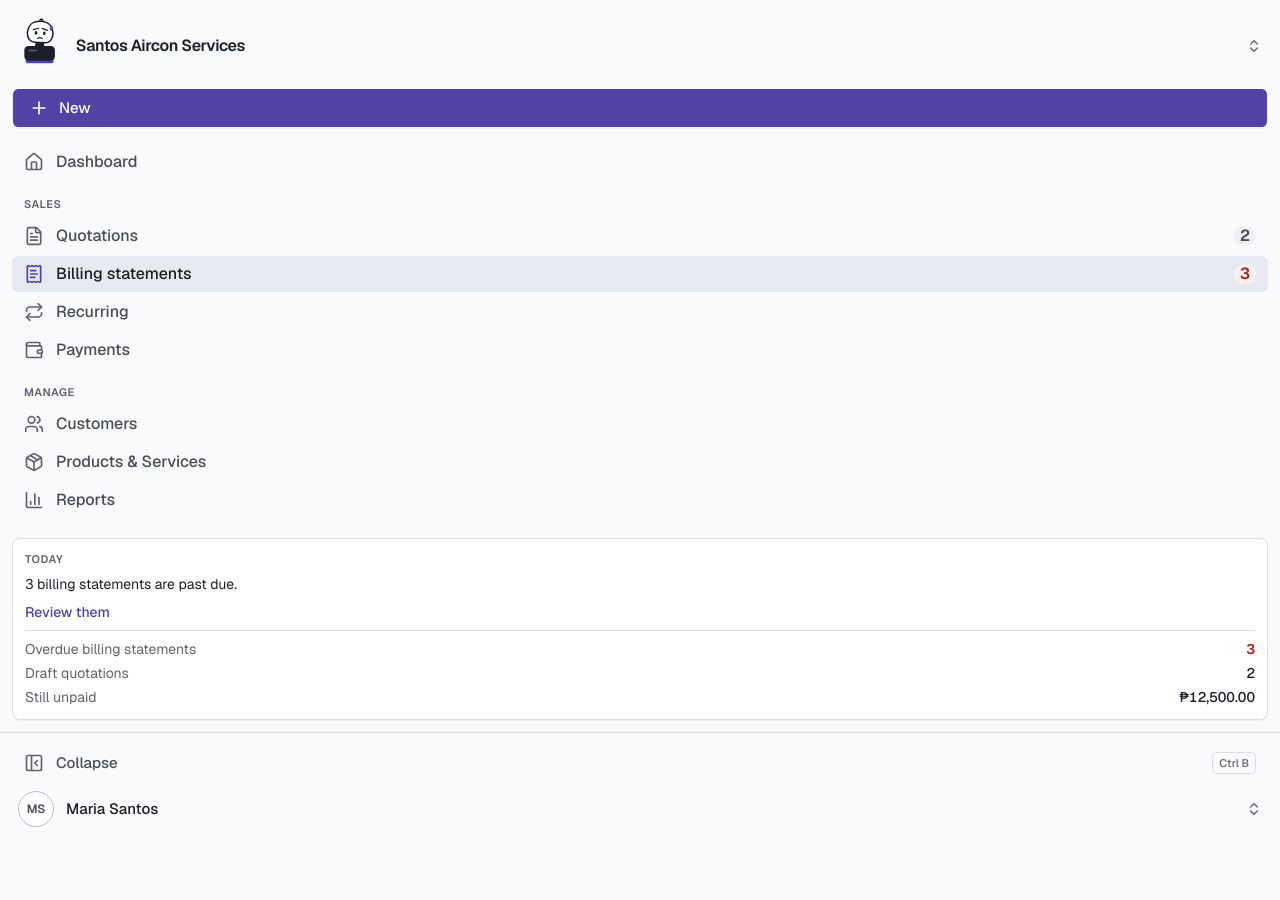
Test: sidebar › offers every business and a way to add another from the name at the top
This screenshot has width=1280, height=900.
Press the mouse on the button "Santos Aircon Services" at (41, 46), box [12,12,1268,80]
Click the button "Santos Aircon Services" at (41, 46), box [12,12,1268,80]
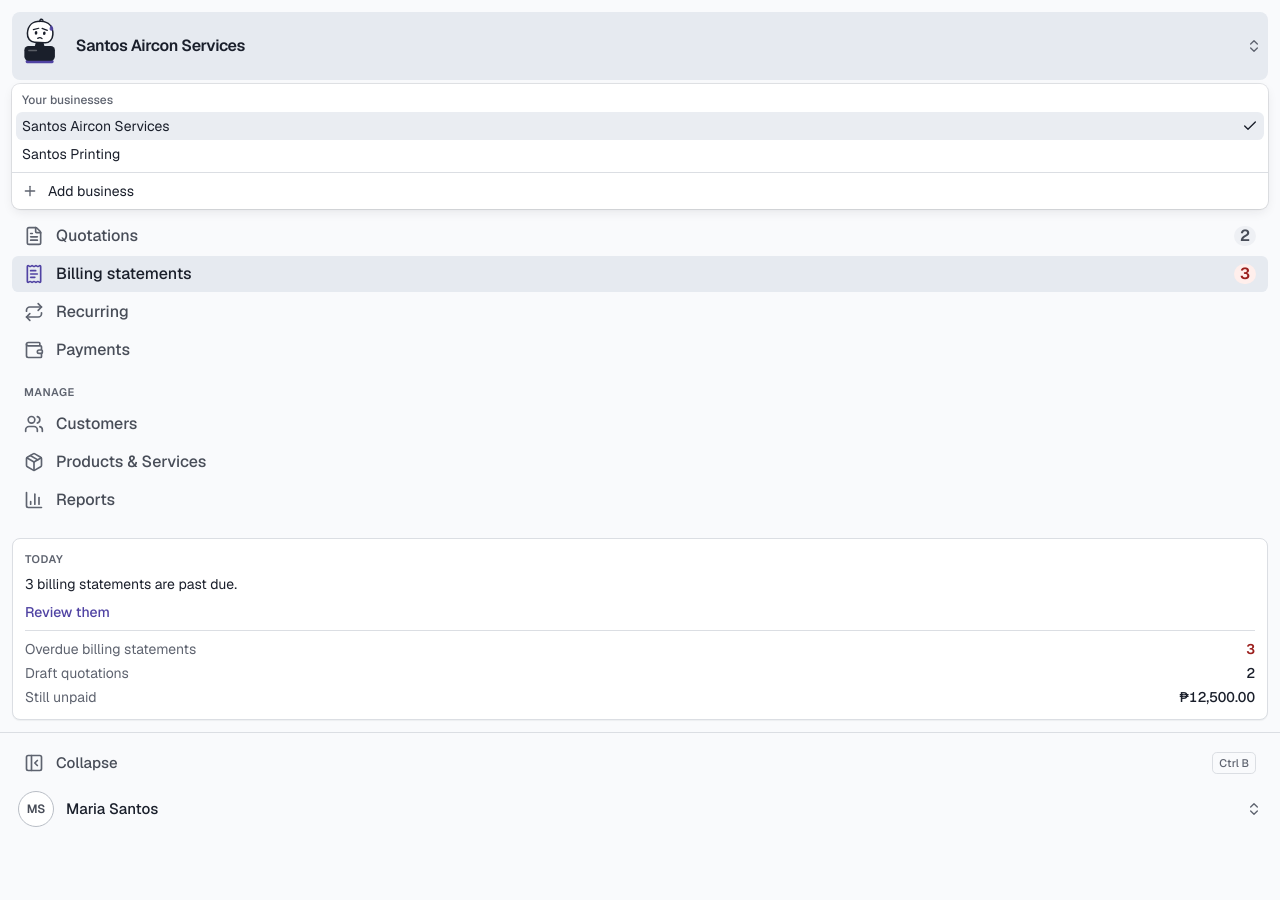
Check: the menu item "Santos Printing" is shown, box [22,145,120,163]
